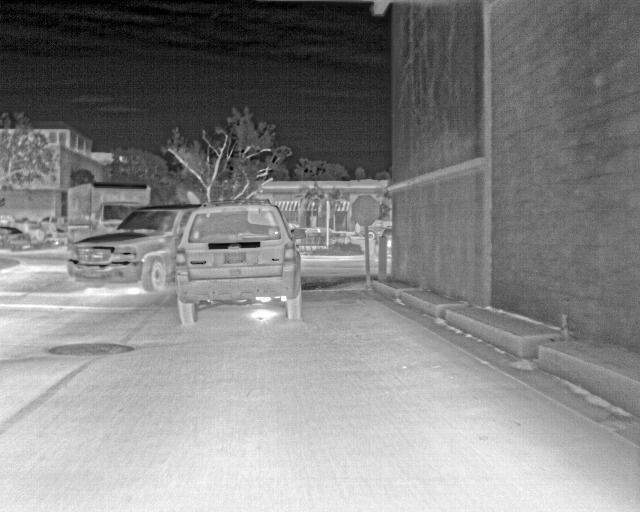car: (174, 197, 301, 325), (67, 204, 175, 294), (0, 224, 29, 249), (29, 221, 48, 245)
